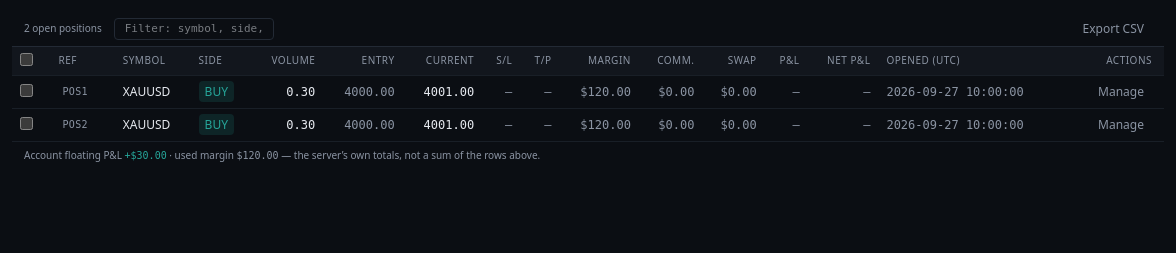
closing a selection, rendered › keeps what the server refused ticked, and says so
The width and height of the screenshot is (1176, 253).
Click the checkbox named "Select every position" at (26,59), box [20,53,33,66]
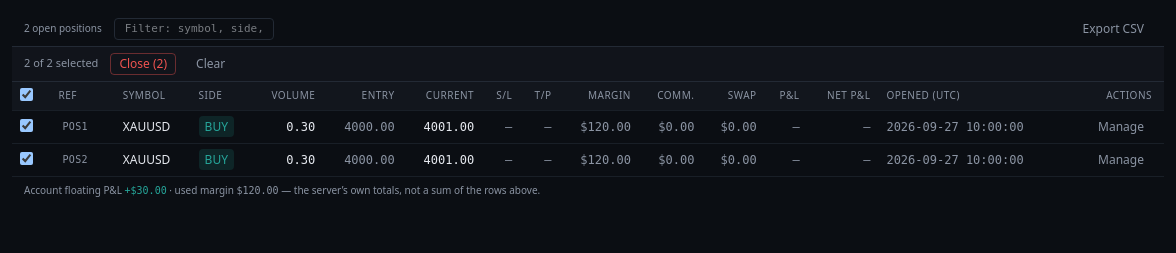
Click the button "Close (2)" at (143,64), box [110,53,176,75]
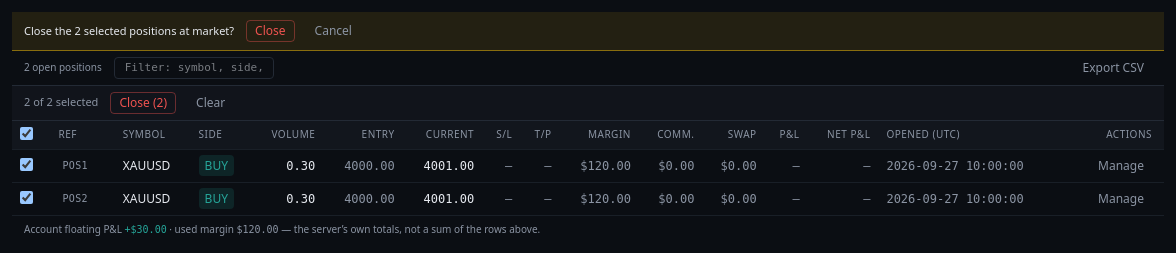
Click the button "Close" at (270,31), box [246,20,295,42]
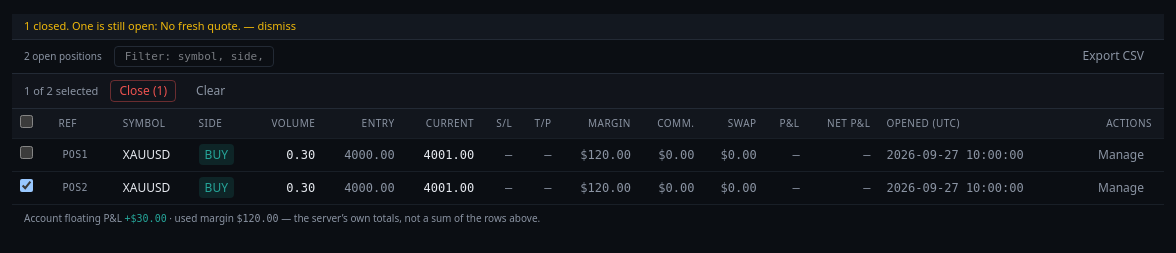
Expected: the button "1 closed. One is still open: No fresh quote. — dismiss" is shown, [12,14,1164,40]
